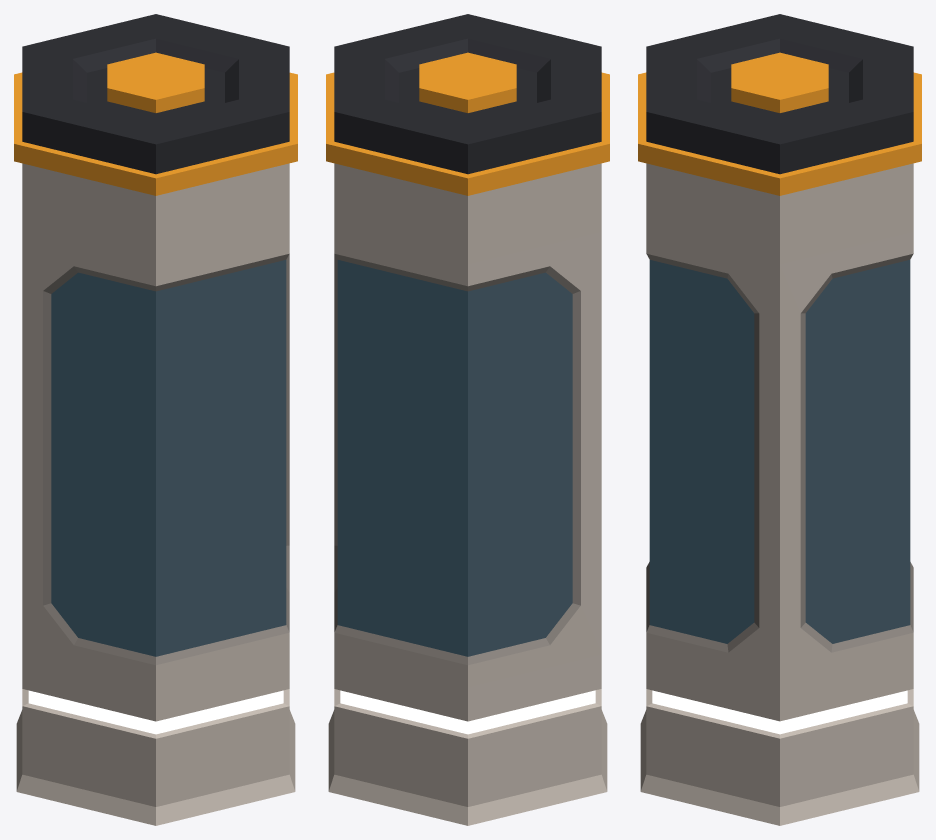
File: SM__Flask_03.glb
3 views of the same model, side by side, from view 1: azimuth 30°, elevation 25°; view 2: azimuth 150°, elevation 25°; view 3: azimuth 270°, elevation 25° (orthographic).
Visible parts, largest first — view 1: SM__Flask_03; view 2: SM__Flask_03; view 3: SM__Flask_03.
Part boxes in pixels (x1,y1,x2,y2): SM__Flask_03: (14,14,297,825); SM__Flask_03: (326,14,609,825); SM__Flask_03: (638,14,921,825).
Bounding box in the file's own units: 0.0683 × 0.1566 × 0.0591.
3 materials, 1 textured.
